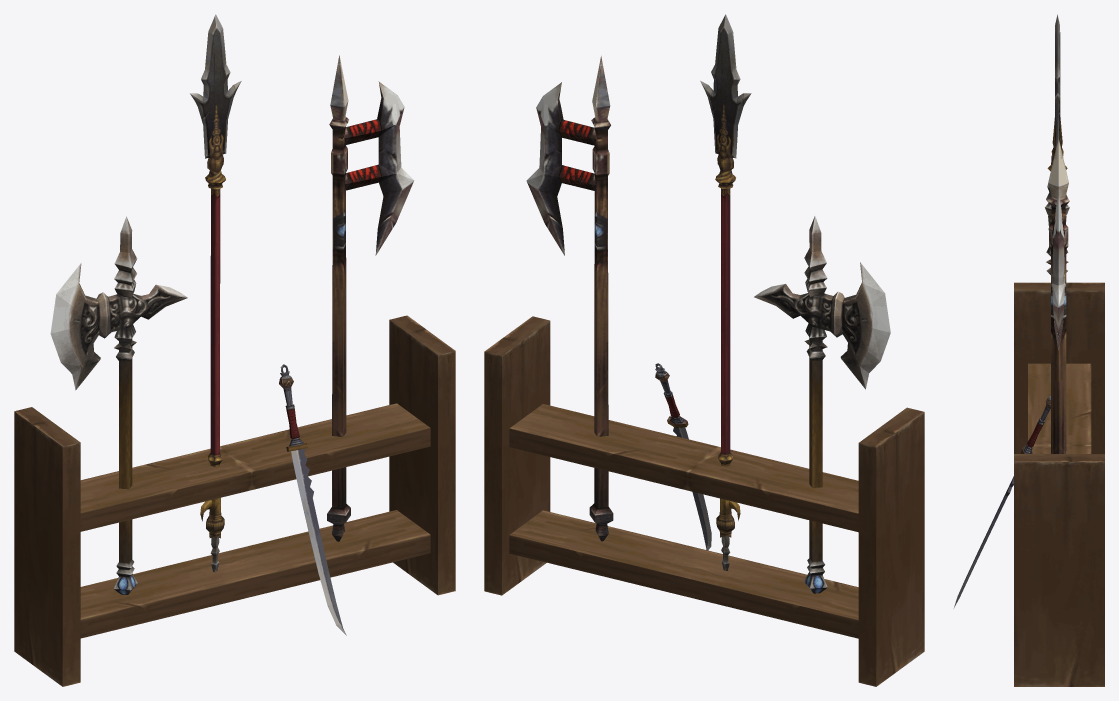
File: Item_3001_dimianwujian_wuqijia01.FBX
The picture shows the model from 3 angles, left to right: view 1: azimuth 30°, elevation 25°; view 2: azimuth 150°, elevation 25°; view 3: azimuth 270°, elevation 25°; orthographic projection. The views are drawn at different scales.
Visible parts, largest first — view 1: Item_3001_dimianwujian_wuqijia01; view 2: Item_3001_dimianwujian_wuqijia01; view 3: Item_3001_dimianwujian_wuqijia01.
Part boxes in pixels (<box>): Item_3001_dimianwujian_wuqijia01: <box>14,14,455,686</box>; Item_3001_dimianwujian_wuqijia01: <box>484,14,924,686</box>; Item_3001_dimianwujian_wuqijia01: <box>953,14,1104,686</box>.
Size of the model in its own units: 195 by 291 by 69.78.
